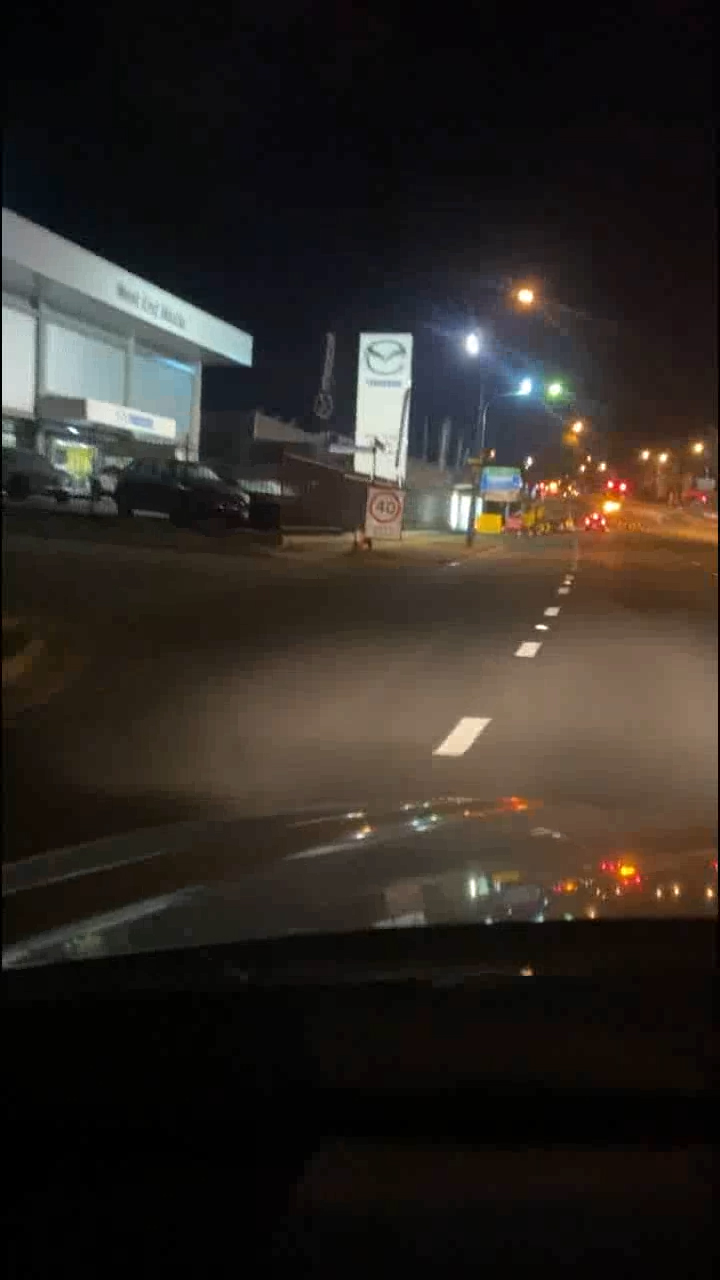car: (122, 456, 254, 533), (6, 442, 77, 508), (587, 509, 604, 533)
road works sign board: (475, 513, 500, 533)
speed board: (368, 486, 400, 542)
